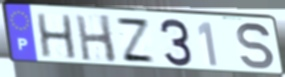1: (197, 21, 219, 68)
3: (157, 16, 193, 68)
H: (73, 14, 119, 65), (34, 13, 79, 61)
S: (235, 21, 277, 72)
Z: (114, 16, 158, 65)
